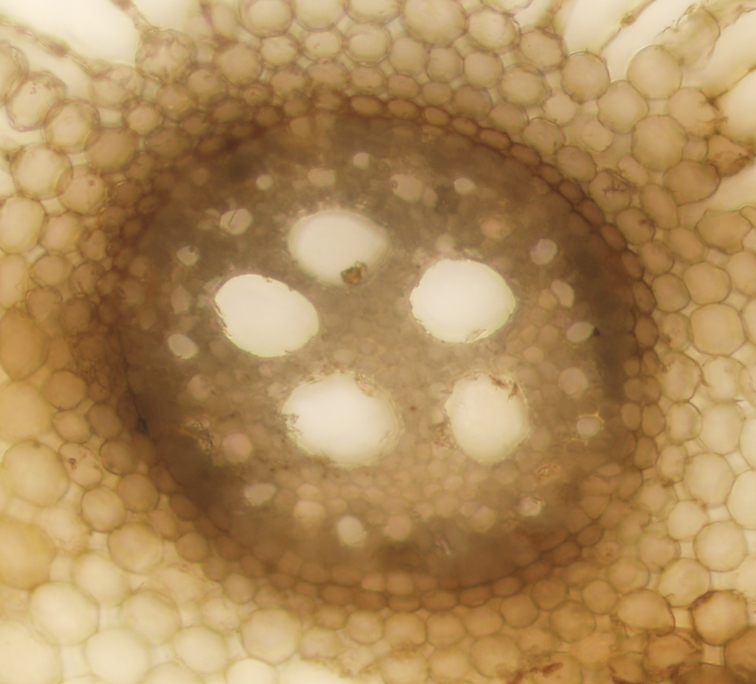lm: (282, 369, 405, 464), (212, 273, 321, 359), (410, 257, 517, 344), (445, 368, 533, 466), (288, 207, 390, 288)
